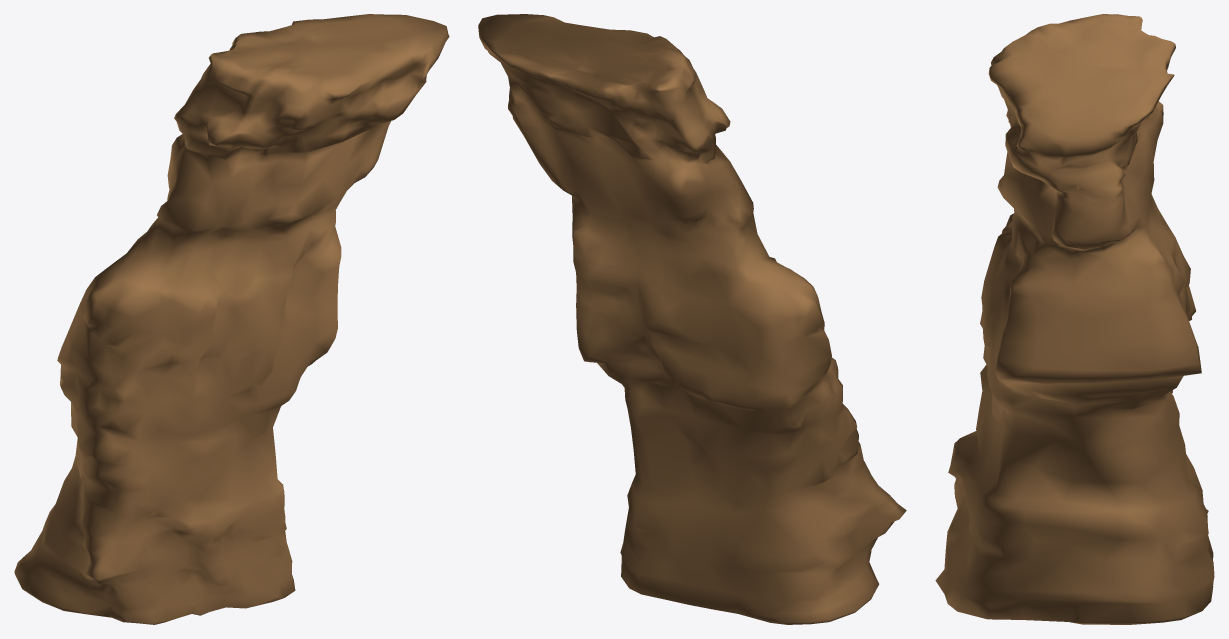
File: MSH_Rocks_Cliff_08_b.FBX
3 renders of one model, left to right at view 1: azimuth 30°, elevation 25°; view 2: azimuth 150°, elevation 25°; view 3: azimuth 270°, elevation 25°, orthographic. The views are drawn at different scales.
Parts seen in each view (by area): view 1: MESH_LOD0; view 2: MESH_LOD0; view 3: MESH_LOD0.
Boxes of the visible parts, bbox=[...] form: MESH_LOD0: bbox=[14, 14, 449, 624]; MESH_LOD0: bbox=[478, 14, 906, 624]; MESH_LOD0: bbox=[935, 14, 1214, 624].
Size of what is drawn, in the model's own units: 577 by 679 by 285.
